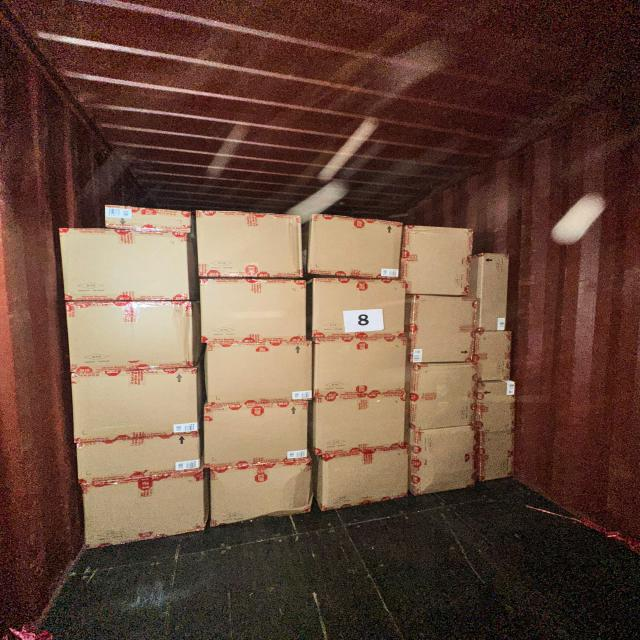Carton: (66, 359, 200, 444), (61, 227, 196, 306), (65, 298, 199, 369), (80, 472, 208, 546), (200, 277, 310, 343), (76, 432, 208, 487), (194, 214, 300, 282), (202, 402, 311, 468), (205, 340, 315, 405), (206, 464, 314, 528), (313, 277, 411, 340), (309, 214, 405, 278), (316, 450, 409, 512), (312, 394, 408, 454), (312, 336, 408, 395), (402, 223, 476, 297), (406, 424, 480, 496), (407, 361, 478, 431), (410, 297, 476, 369), (478, 251, 510, 332), (475, 379, 520, 434), (475, 429, 518, 483), (476, 331, 514, 383)
